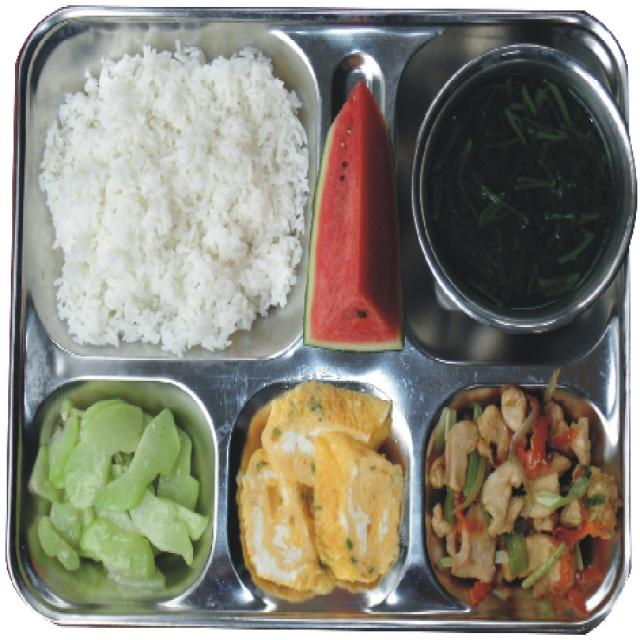bo xao: (428, 372, 617, 605)
canh cai: (427, 75, 621, 313)
com: (39, 42, 308, 357)
dua hau: (304, 82, 401, 350)
trung chien: (238, 383, 404, 593)
